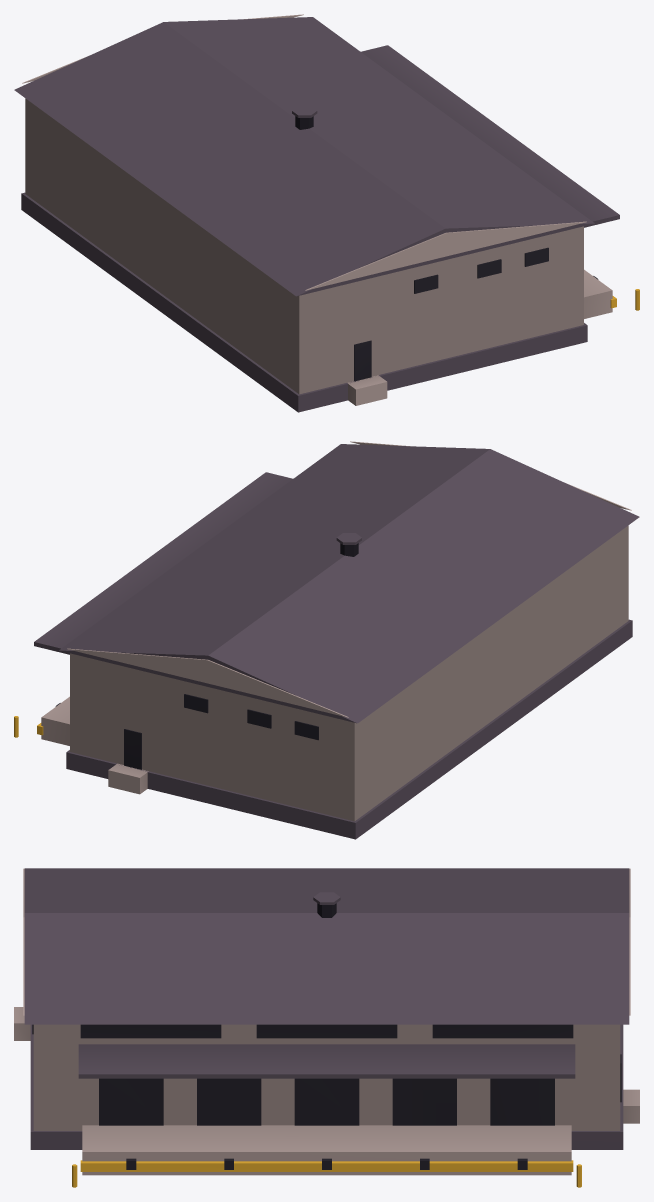
3 renders of one model, top to bottom at view 1: azimuth 30°, elevation 25°; view 2: azimuth 150°, elevation 25°; view 3: azimuth 270°, elevation 25°, orthographic. The views are drawn at different scales.
Visible parts, largest first — view 1: body_pal_asphalt, body_pal_sidewalk, body_pal_uiDark; view 2: body_pal_asphalt, body_pal_sidewalk, body_pal_uiDark; view 3: body_pal_asphalt, body_pal_sidewalk, body_pal_uiDark, body_pal_schoolBusYellow.
Part boxes in pixels (<box>): body_pal_asphalt: <box>14,17,619,412</box>; body_pal_sidewalk: <box>22,14,612,405</box>; body_pal_uiDark: <box>295,116,598,381</box>; body_pal_asphalt: <box>34,444,639,839</box>; body_pal_sidewalk: <box>41,441,631,821</box>; body_pal_uiDark: <box>55,543,358,769</box>; body_pal_asphalt: <box>24,868,629,1149</box>; body_pal_sidewalk: <box>14,868,639,1175</box>; body_pal_uiDark: <box>32,903,621,1169</box>; body_pal_schoolBusYellow: <box>72,1160,581,1187</box>.
Bounding box in the file's own units: 23.16 × 9.98 × 32.
